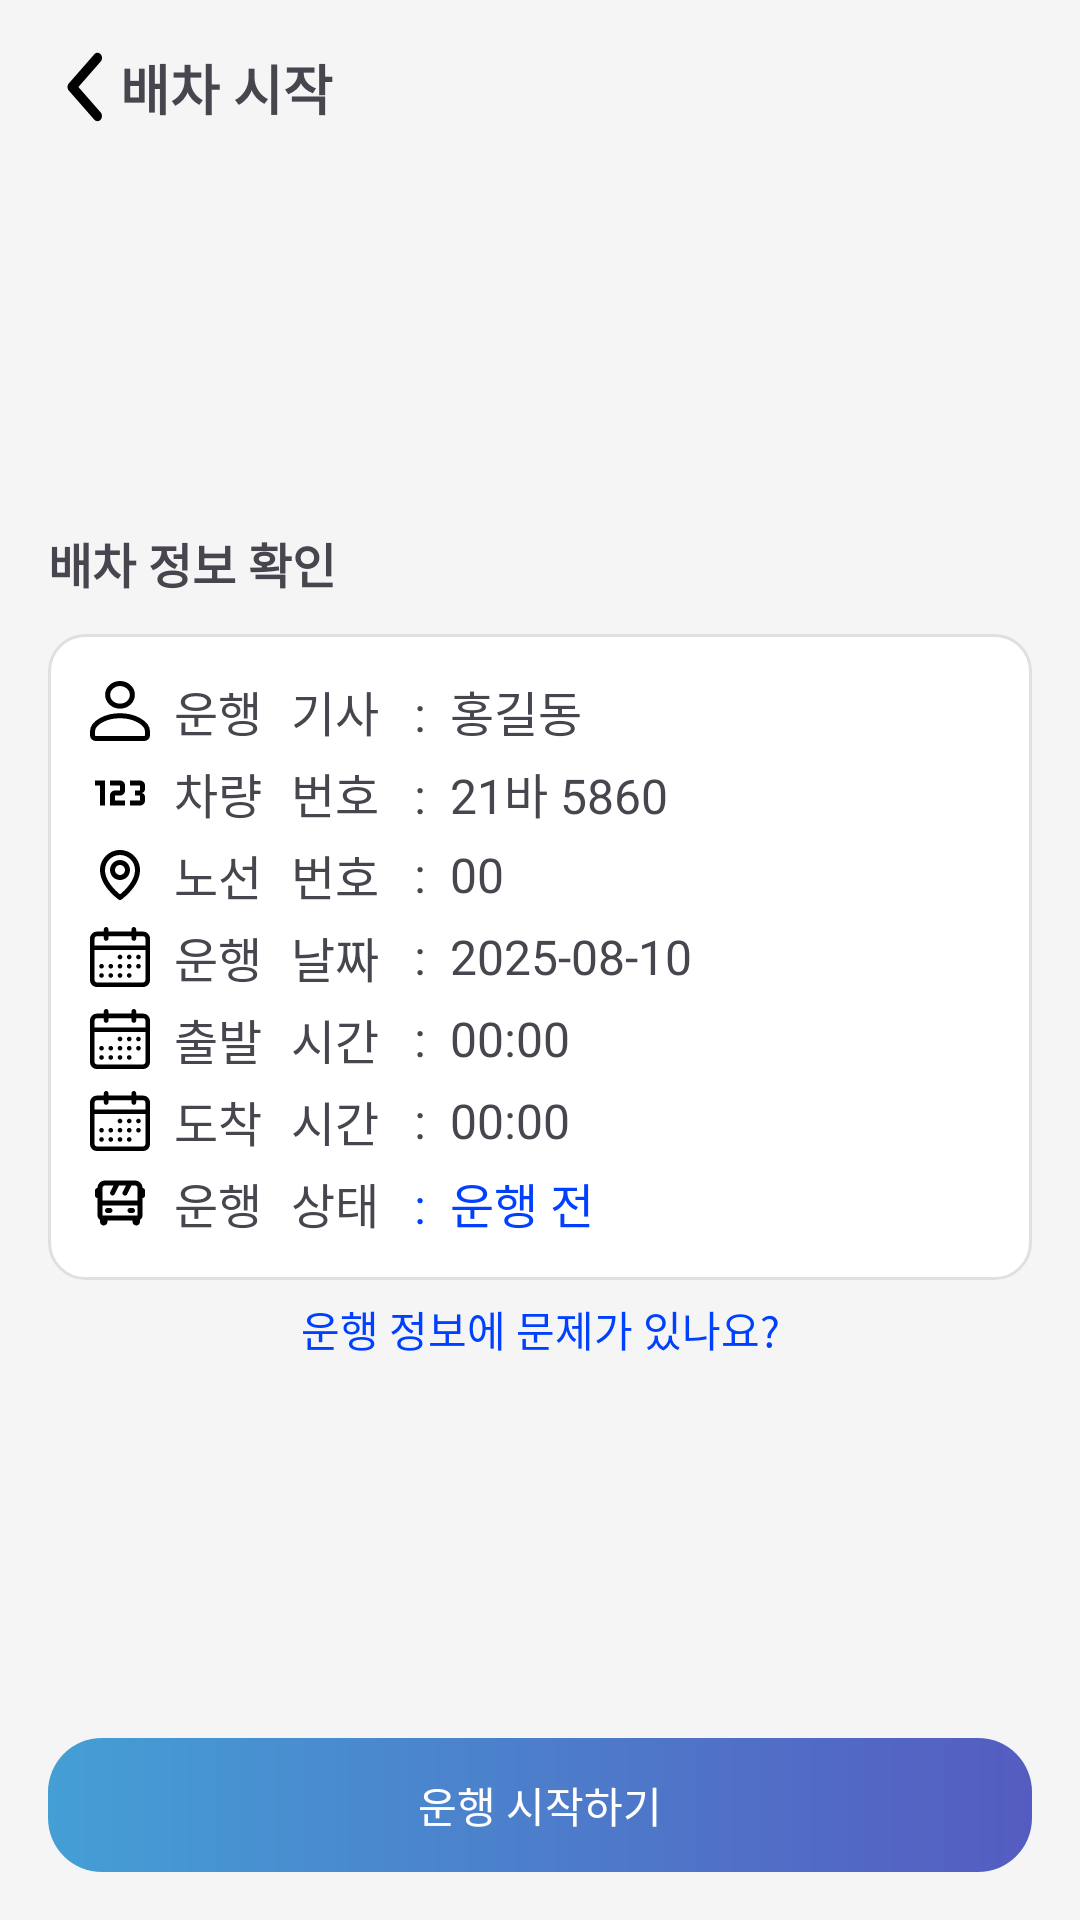

Named icons in this screenshot (1080 x 1920) and their centers, [x,y]:
back arrow: [84,87]
bus: [120,1203]
calendar: [120,957], [120,1039], [120,1121]
number: [120,793]
person: [120,711]
pin: [120,875]
